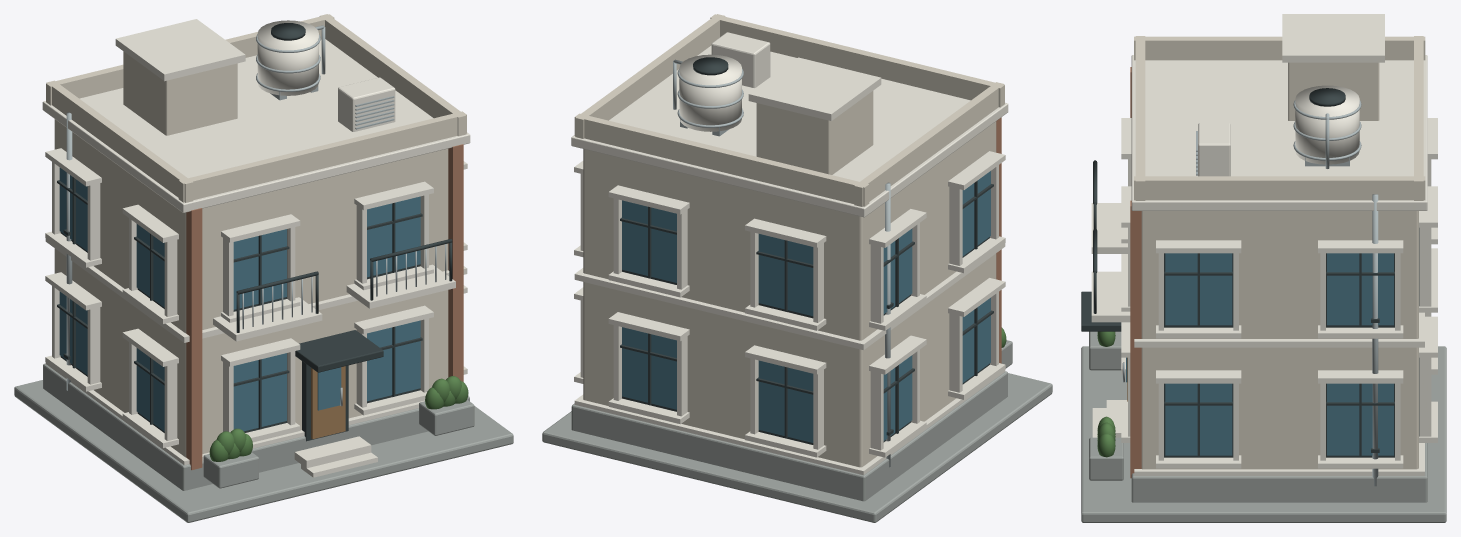
Rendered from site-apartment-low.glb.
3 renders of one model, left to right at view 1: azimuth 30°, elevation 25°; view 2: azimuth 150°, elevation 25°; view 3: azimuth 270°, elevation 25°, orthographic. The views are drawn at different scales.
Parts seen in each view (by area): view 1: site-apartment-low_Warm_white_precast, site-apartment-low_Limestone_render, site-apartment-low_Honed_grey_sandstone, site-apartment-low_Blue_reflective_glazing, site-apartment-low_Anthracite_anodized_metal, site-apartment-low_Terracotta_brick, site-apartment-low_Galvanized_brushed_steel, site-apartment-low_Garden_evergreen, site-apartment-low_Weathered_warm_teak; view 2: site-apartment-low_Limestone_render, site-apartment-low_Warm_white_precast, site-apartment-low_Honed_grey_sandstone, site-apartment-low_Blue_reflective_glazing, site-apartment-low_Anthracite_anodized_metal, site-apartment-low_Galvanized_brushed_steel, site-apartment-low_Terracotta_brick; view 3: site-apartment-low_Warm_white_precast, site-apartment-low_Limestone_render, site-apartment-low_Honed_grey_sandstone, site-apartment-low_Blue_reflective_glazing, site-apartment-low_Anthracite_anodized_metal, site-apartment-low_Terracotta_brick, site-apartment-low_Galvanized_brushed_steel, site-apartment-low_Garden_evergreen.
Boxes of the visible parts, x1,y1,x2,y2 form: site-apartment-low_Warm_white_precast: [42, 19, 470, 477]; site-apartment-low_Limestone_render: [46, 14, 466, 457]; site-apartment-low_Honed_grey_sandstone: [14, 363, 513, 522]; site-apartment-low_Blue_reflective_glazing: [59, 167, 420, 431]; site-apartment-low_Anthracite_anodized_metal: [57, 23, 452, 441]; site-apartment-low_Terracotta_brick: [186, 144, 463, 470]; site-apartment-low_Galvanized_brushed_steel: [66, 25, 446, 406]; site-apartment-low_Garden_evergreen: [209, 376, 468, 461]; site-apartment-low_Weathered_warm_teak: [311, 366, 345, 438]; site-apartment-low_Limestone_render: [574, 14, 1004, 467]; site-apartment-low_Warm_white_precast: [571, 32, 1008, 475]; site-apartment-low_Honed_grey_sandstone: [542, 340, 1052, 522]; site-apartment-low_Blue_reflective_glazing: [622, 171, 990, 442]; site-apartment-low_Anthracite_anodized_metal: [620, 57, 993, 444]; site-apartment-low_Galvanized_brushed_steel: [673, 59, 890, 467]; site-apartment-low_Terracotta_brick: [996, 117, 1001, 363]; site-apartment-low_Warm_white_precast: [1091, 14, 1437, 475]; site-apartment-low_Limestone_render: [1134, 36, 1425, 469]; site-apartment-low_Honed_grey_sandstone: [1081, 331, 1446, 522]; site-apartment-low_Blue_reflective_glazing: [1126, 253, 1393, 455]; site-apartment-low_Anthracite_anodized_metal: [1081, 88, 1419, 457]; site-apartment-low_Terracotta_brick: [1130, 67, 1141, 478]; site-apartment-low_Galvanized_brushed_steel: [1122, 100, 1378, 486]; site-apartment-low_Garden_evergreen: [1097, 331, 1115, 457].
Bounding box in the file's own units: 4.55 × 4.82 × 4.2.
